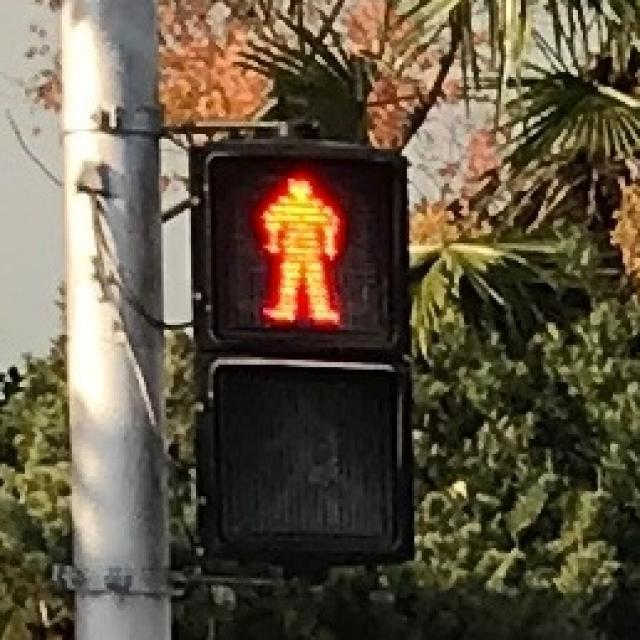red_light: (218, 152, 384, 332)
